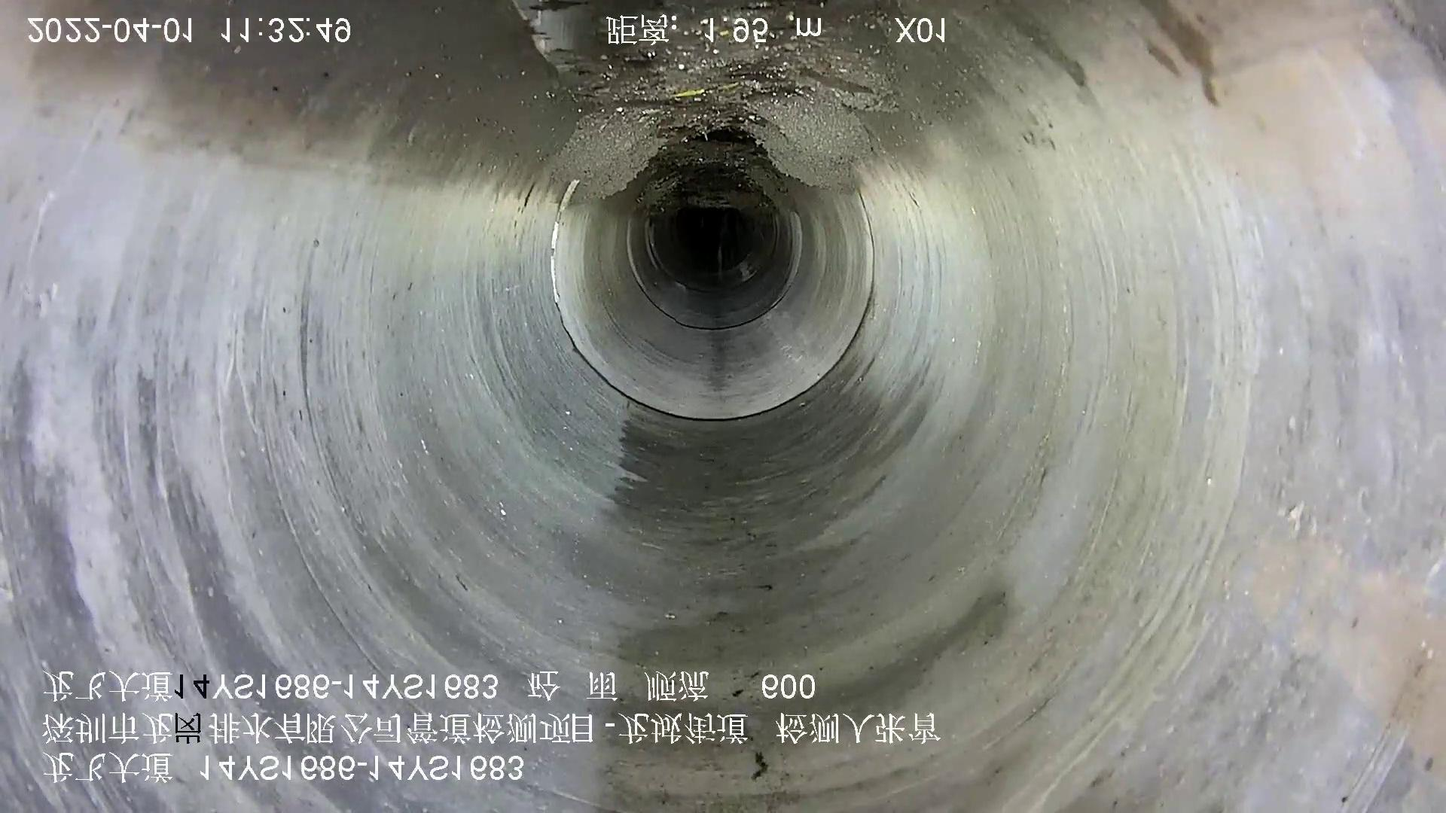CJ: (514, 1, 895, 210)
CKTJ: (546, 170, 883, 429), (624, 209, 806, 333)
